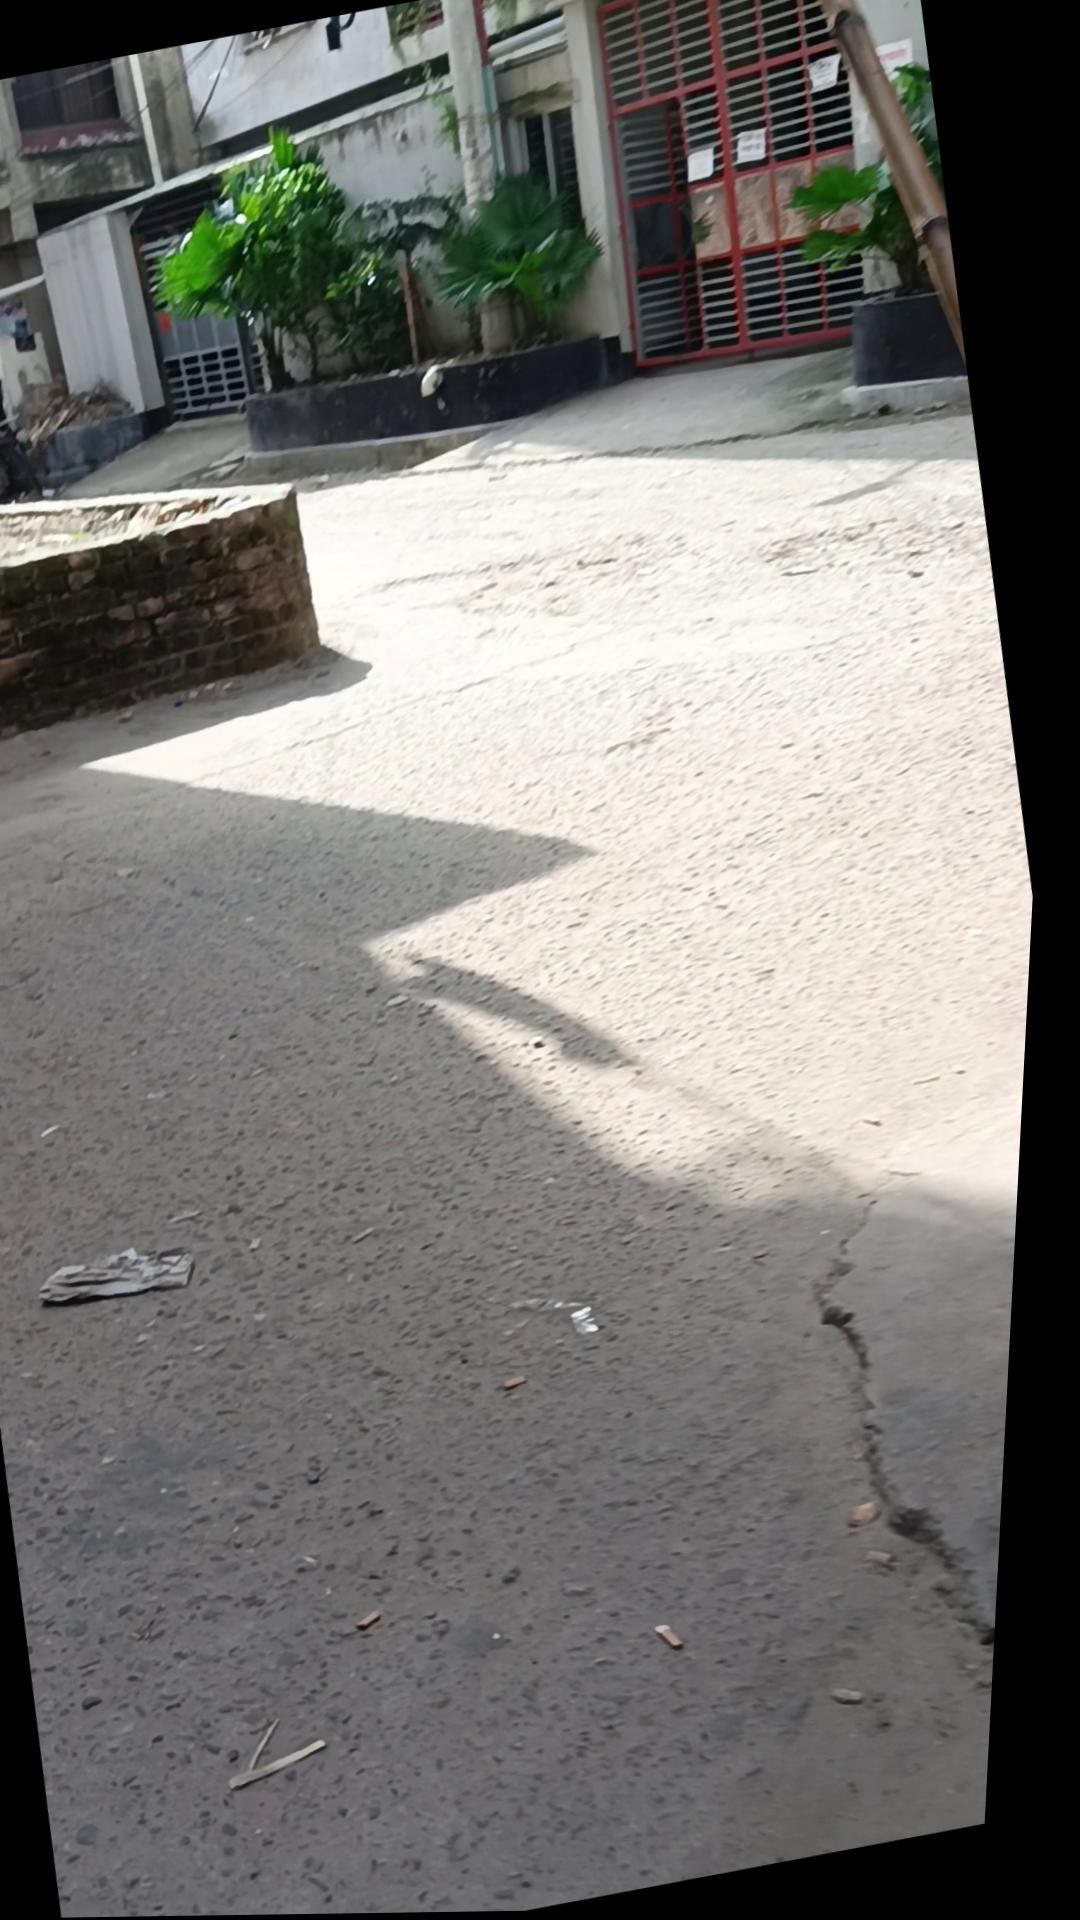Broken-road: (0, 278, 1068, 1920)
Crosswalk: (405, 298, 959, 513), (237, 323, 633, 471), (814, 266, 977, 405), (0, 398, 186, 495)
Pothole: (0, 409, 57, 518)
Traffic-cone: (129, 117, 407, 411), (770, 61, 969, 319)
